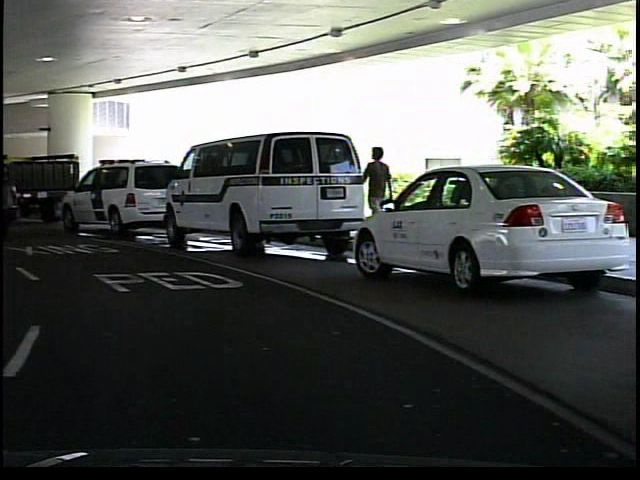person: (356, 138, 394, 245)
